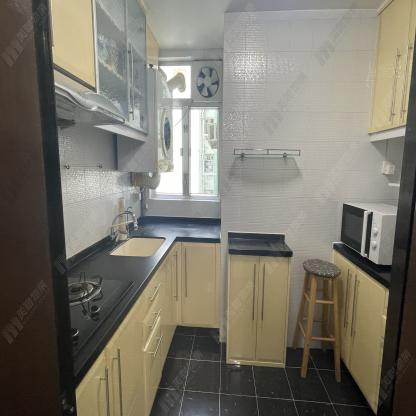Cupboard: (73, 241, 219, 416), (49, 0, 148, 141), (326, 252, 390, 416), (224, 254, 290, 368)
Exhaust Fan: (194, 61, 222, 102)
Faucet: (107, 210, 138, 242)
Fridge: (67, 273, 135, 356)
Microwave: (339, 202, 398, 266)
Sink: (106, 236, 167, 259)
Washing Machine: (116, 68, 174, 175)
